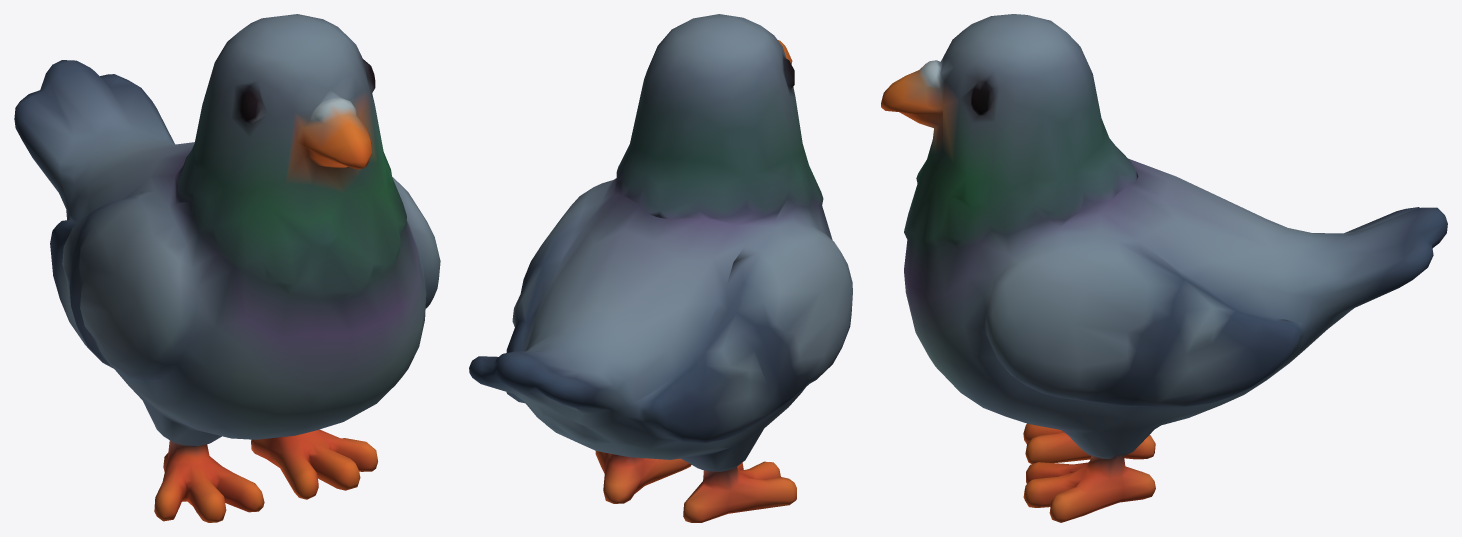
Rendered from meshy-pigeon.glb.
3 renders of one model, left to right at view 1: azimuth 30°, elevation 25°; view 2: azimuth 150°, elevation 25°; view 3: azimuth 270°, elevation 25°, orthographic. The views are drawn at different scales.
Visible parts, largest first — view 1: Mesh_0; view 2: Mesh_0; view 3: Mesh_0.
Part boxes in pixels (x1,y1,x2,y2): Mesh_0: [14, 14, 440, 522]; Mesh_0: [469, 14, 852, 522]; Mesh_0: [881, 14, 1447, 522].
Bounding box in the file's own units: 1.11 × 1.67 × 1.9.
